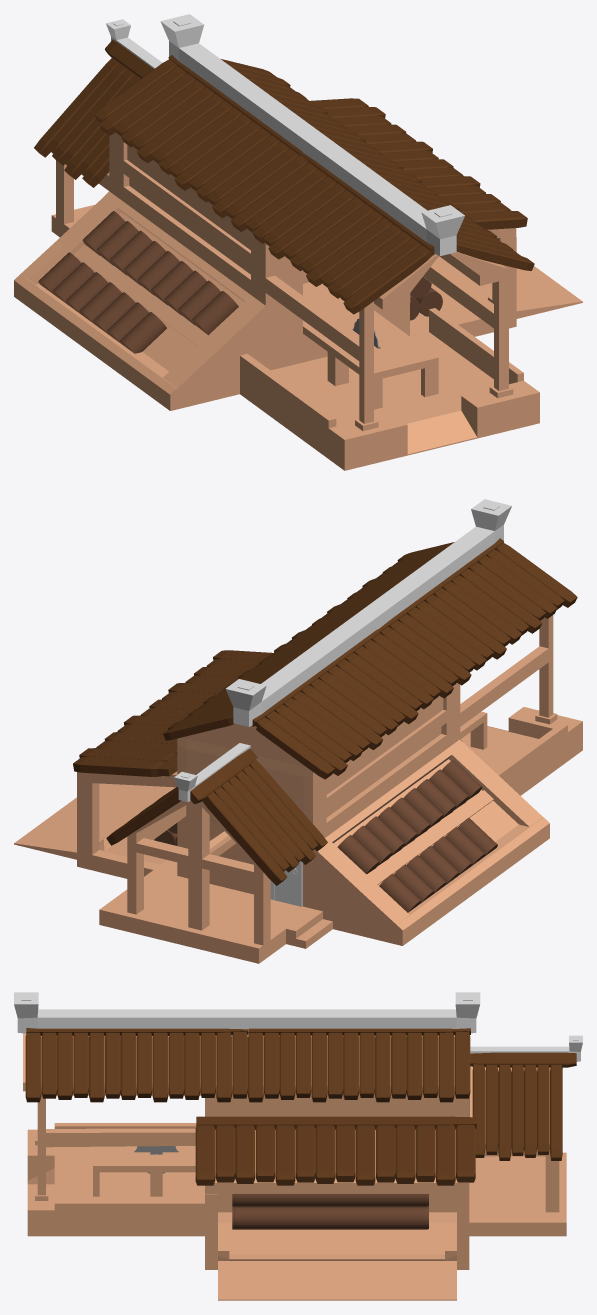
Rendered from Sawmill.fbx.
3 renders of one model, top to bottom at view 1: azimuth 30°, elevation 25°; view 2: azimuth 150°, elevation 25°; view 3: azimuth 270°, elevation 25°, orthographic. The views are drawn at different scales.
Visible parts, largest first — view 1: Cube, Cube.005, Cube.001, Cube.007, Cube.002, Cylinder.022, Cylinder.018, Cube.003, Cylinder.021, Cylinder.015, Cylinder.013, Cylinder.019 (+10 smaller); view 2: Cube, Cube.005, Cube.002, Cube.001, Cube.007, Cube.003, Cylinder.007, Cylinder.005, Cylinder.006, Cylinder.022, Cylinder.021, Cylinder.015 (+11 smaller); view 3: Cube, Cube.005, Cube.007, Cube.001, Cube.002, Cylinder.002, Cylinder.003, Cube.003.
Part boxes in pixels (<box>): Cube: <box>14,132,582,470</box>; Cube.005: <box>94,55,534,314</box>; Cube.001: <box>160,14,464,255</box>; Cube.007: <box>310,98,527,229</box>; Cube.002: <box>34,39,153,187</box>; Cylinder.022: <box>192,291,238,335</box>; Cylinder.018: <box>120,312,166,353</box>; Cube.003: <box>106,19,162,68</box>; Cylinder.021: <box>178,280,220,325</box>; Cylinder.015: <box>137,251,179,295</box>; Cylinder.013: <box>123,241,166,285</box>; Cylinder.019: <box>164,270,206,315</box>; Cube: <box>14,615,582,963</box>; Cube.005: <box>163,538,577,779</box>; Cube.002: <box>106,748,327,885</box>; Cube.001: <box>225,499,511,726</box>; Cube.007: <box>73,650,272,776</box>; Cube.003: <box>174,743,250,801</box>; Cylinder.007: <box>337,835,379,874</box>; Cylinder.005: <box>270,864,298,905</box>; Cylinder.006: <box>379,874,421,912</box>; Cylinder.022: <box>441,760,482,800</box>; Cylinder.021: <box>428,769,469,809</box>; Cylinder.015: <box>390,797,430,837</box>; Cube: <box>23,1033,566,1300</box>; Cube.005: <box>25,1028,470,1102</box>; Cube.007: <box>195,1116,476,1185</box>; Cube.001: <box>14,992,480,1034</box>; Cube.002: <box>470,1052,576,1160</box>; Cylinder.002: <box>232,1207,428,1229</box>; Cylinder.003: <box>232,1194,428,1206</box>; Cube.003: <box>470,1035,582,1061</box>.
Bounding box in the file's own units: 400 × 213 × 554.
